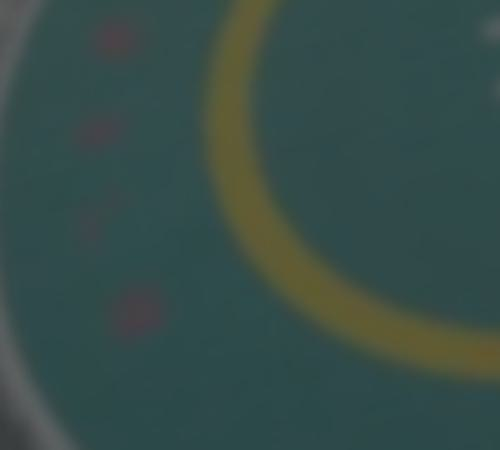Apron: (187, 1, 500, 384)
